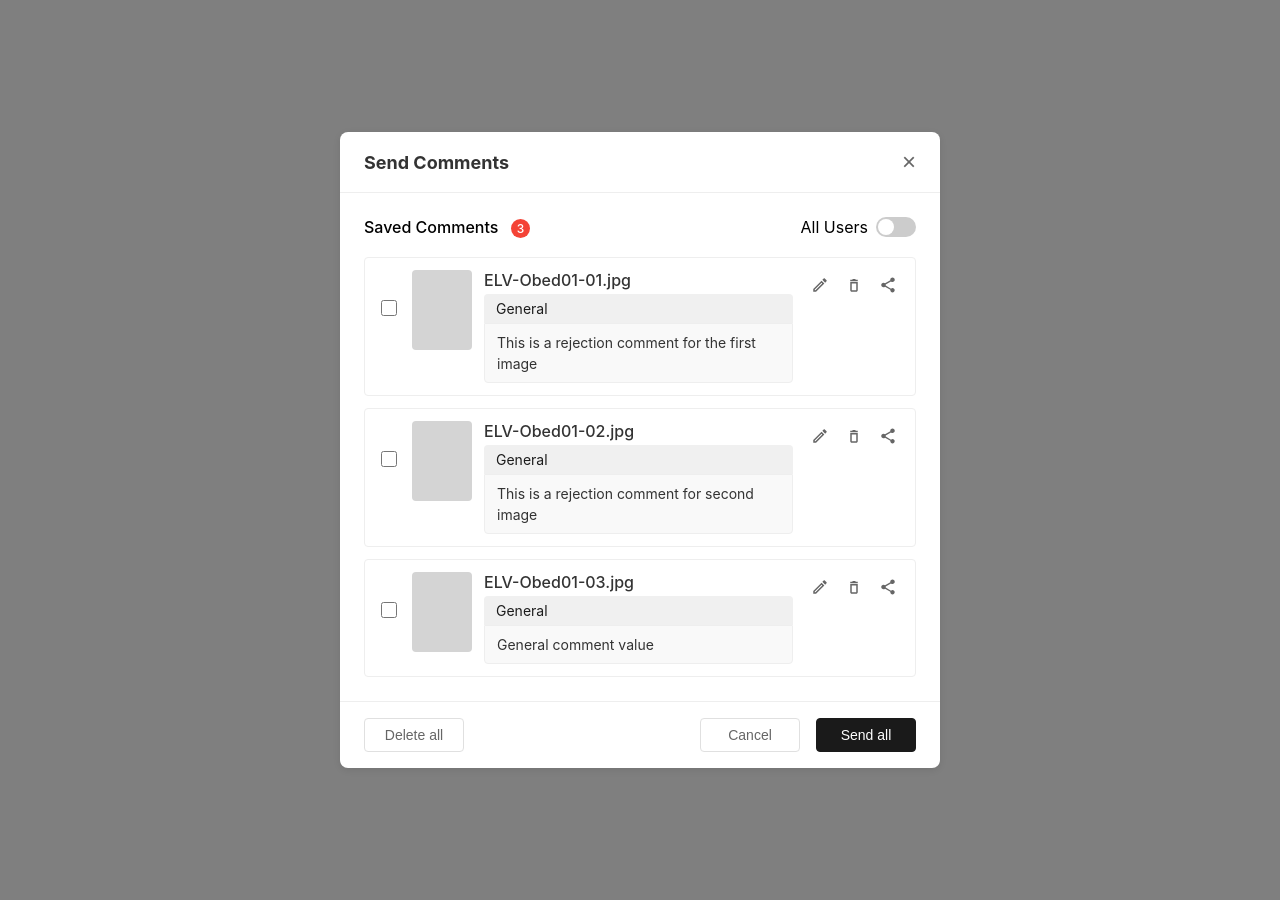
Test: CommentsModal Component › handles select all toggle
Step 1. Click the checkbox next to "All Users" → click(896, 227), box [876, 217, 916, 237]
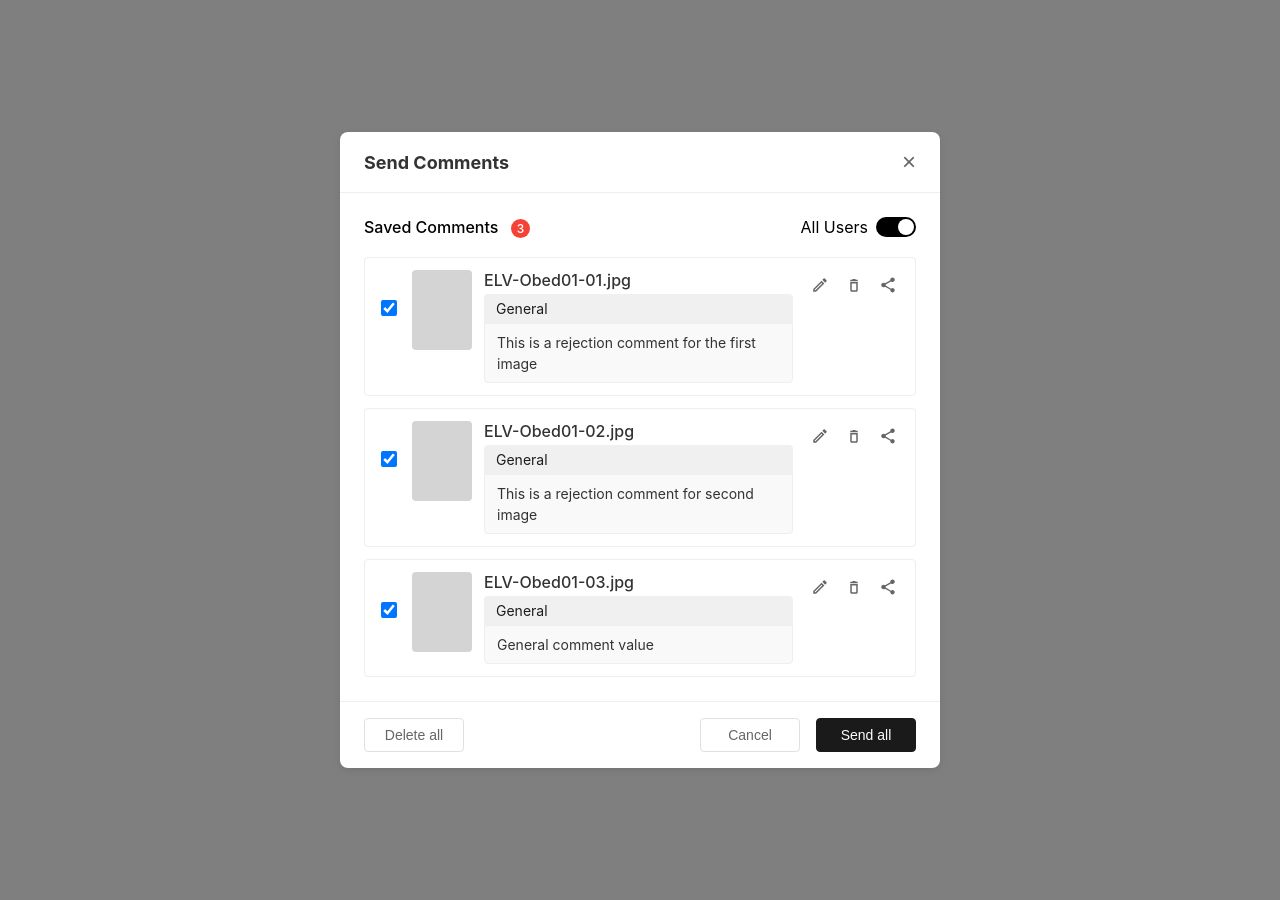
Expected: the checkbox below "ELV-Obed01-01.jpg" is checked, [381, 300, 397, 316]
Expected: the checkbox below "ELV-Obed01-02.jpg" is checked, [381, 451, 397, 467]
Expected: the checkbox below "ELV-Obed01-03.jpg" is checked, [381, 602, 397, 618]
